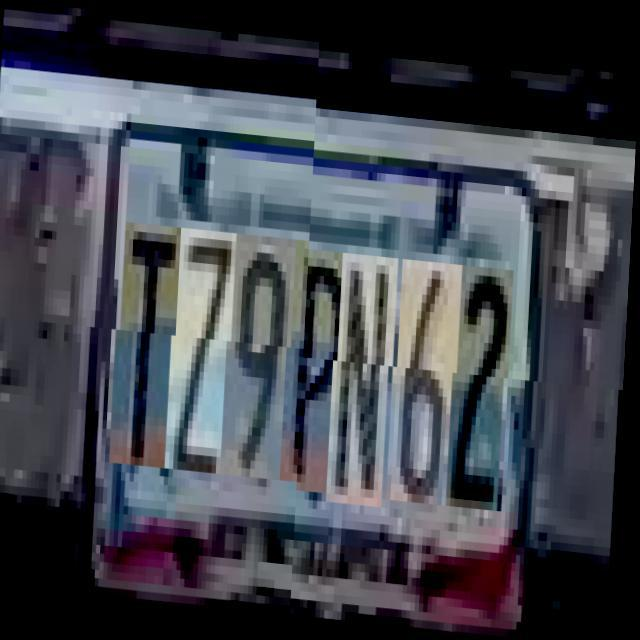2: (455, 255, 516, 500)
6: (396, 250, 464, 496)
9: (230, 236, 298, 482)
N: (335, 245, 401, 499)
P: (289, 241, 354, 487)
T: (118, 227, 184, 473)
Z: (174, 232, 238, 478)
